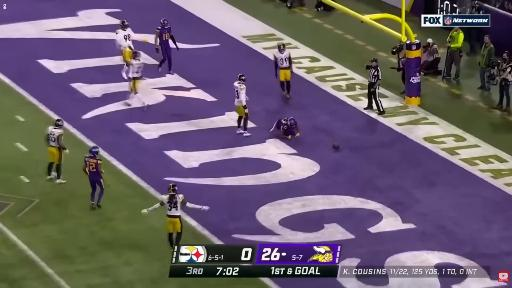Helmet: (119, 20, 129, 30), (168, 184, 177, 194), (89, 146, 99, 155), (288, 118, 297, 127), (132, 51, 141, 59), (54, 119, 63, 127), (278, 43, 285, 53), (238, 74, 246, 82), (161, 19, 169, 27)
Jersey: (162, 194, 184, 216), (84, 155, 101, 178), (116, 28, 134, 49), (47, 127, 63, 147), (234, 82, 246, 106), (274, 51, 290, 68), (157, 27, 171, 45), (130, 60, 143, 78), (278, 118, 289, 130)
Player: (142, 184, 209, 249), (46, 119, 68, 183), (83, 146, 104, 209), (155, 19, 178, 74), (125, 51, 146, 107), (116, 20, 134, 78), (234, 74, 250, 136), (274, 43, 292, 98), (270, 118, 299, 138)
